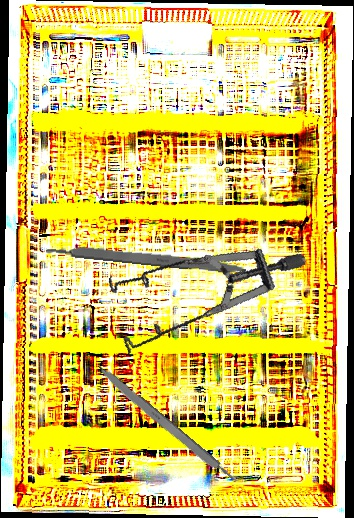Scalpel Handle: (92, 361, 240, 489), (45, 240, 248, 276)
Speculum: (90, 203, 308, 396)
